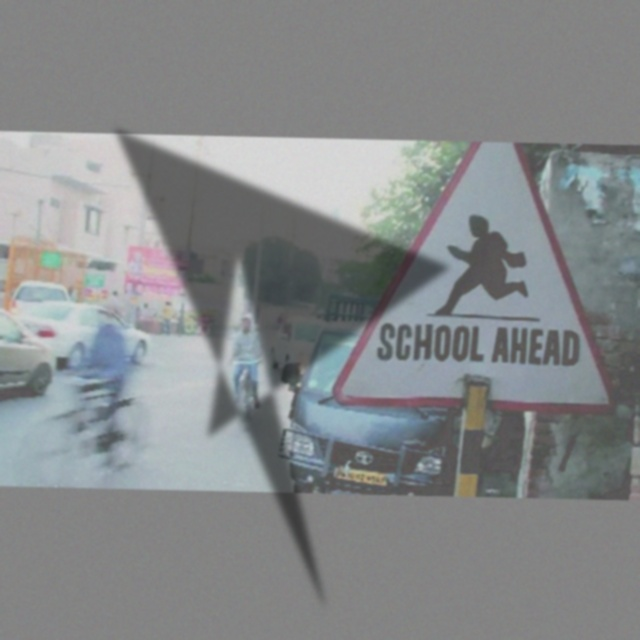School_Ahead: (361, 166, 603, 388)
